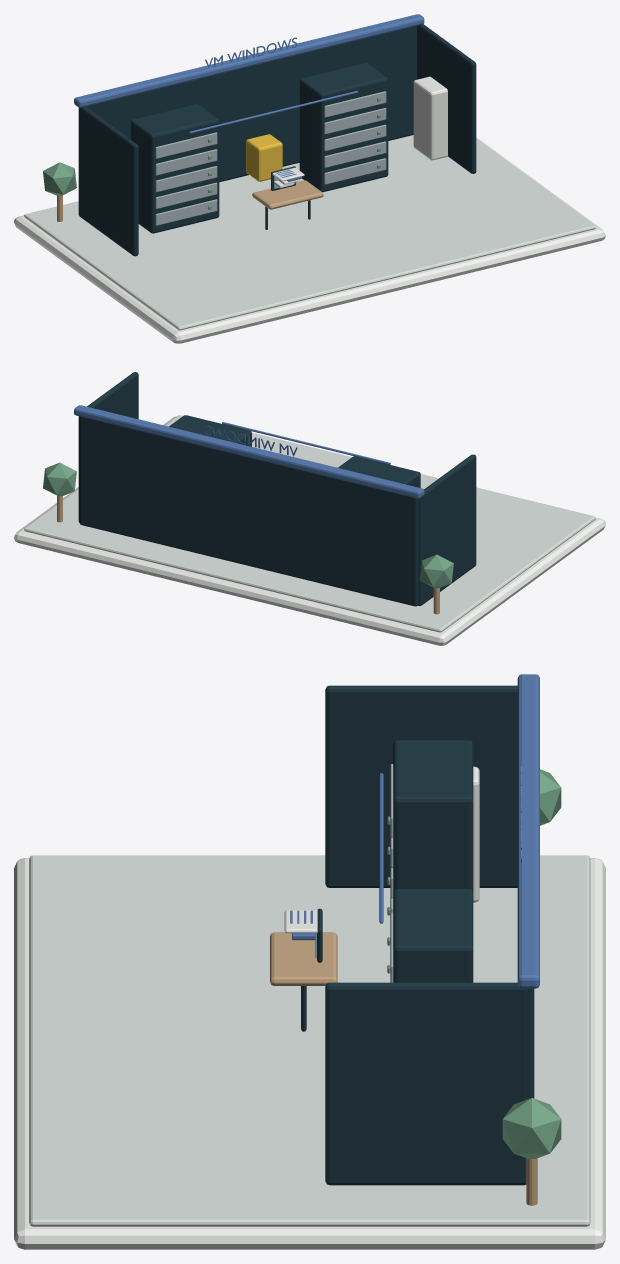
File: vmvre.glb
3 renders of one model, top to bottom at view 1: azimuth 30°, elevation 25°; view 2: azimuth 150°, elevation 25°; view 3: azimuth 270°, elevation 25°, orthographic. The views are drawn at different scales.
Parts seen in each view (by area): view 1: Activity ground, VM WINDOWS back, Project island, VM WINDOWS side, Server rack.001, Server rack, VM WINDOWS side.001, VM WINDOWS fascia, Cooling unit.001, Shared writer lock, Office desk, Icosphere (+12 smaller); view 2: VM WINDOWS back, Activity ground, Project island, VM WINDOWS side, VM WINDOWS fascia, VM WINDOWS side.001, Server rack, Server rack.001, Icosphere, Icosphere.001, Shared ownership line, Sign VM WINDOWS; view 3: Activity ground, VM WINDOWS side.001, VM WINDOWS side, Project island, Server rack, Server rack.001, VM WINDOWS fascia, Office desk, Icosphere.001, Icosphere, Cooling unit, Document bundle (+1 smaller).
Boxes of the visible parts, <box> form: Activity ground: <box>24,135,595,330</box>; VM WINDOWS back: <box>86,26,416,182</box>; Project island: <box>14,137,605,343</box>; VM WINDOWS side: <box>78,106,138,256</box>; Server rack.001: <box>299,63,388,192</box>; Server rack: <box>130,104,219,233</box>; VM WINDOWS side.001: <box>417,23,476,173</box>; VM WINDOWS fascia: <box>74,14,424,107</box>; Cooling unit.001: <box>413,76,447,160</box>; Shared writer lock: <box>246,134,282,181</box>; Office desk: <box>252,180,323,209</box>; Icosphere: <box>43,162,76,196</box>; VM WINDOWS back: <box>79,416,418,606</box>; Activity ground: <box>24,415,595,632</box>; Project island: <box>14,416,605,645</box>; VM WINDOWS side: <box>418,454,476,605</box>; VM WINDOWS fascia: <box>74,405,424,498</box>; VM WINDOWS side.001: <box>78,372,138,522</box>; Server rack: <box>338,456,420,487</box>; Server rack.001: <box>169,415,251,446</box>; Icosphere: <box>420,554,453,588</box>; Icosphere.001: <box>43,462,76,496</box>; Shared ownership line: <box>222,422,390,464</box>; Sign VM WINDOWS: <box>205,425,297,456</box>; Activity ground: <box>29,855,590,1226</box>; VM WINDOWS side.001: <box>325,982,528,1185</box>; VM WINDOWS side: <box>325,685,517,887</box>; Project island: <box>14,858,605,1249</box>; Server rack: <box>393,740,473,891</box>; Server rack.001: <box>393,888,473,982</box>; VM WINDOWS fascia: <box>517,674,539,988</box>; Office desk: <box>270,932,337,985</box>; Icosphere.001: <box>502,1098,561,1158</box>; Icosphere: <box>540,769,561,825</box>; Cooling unit: <box>473,766,479,902</box>; Document bundle: <box>284,910,322,933</box>.
Size of the model in its own units: 7.3 by 2.31 by 4.8.
